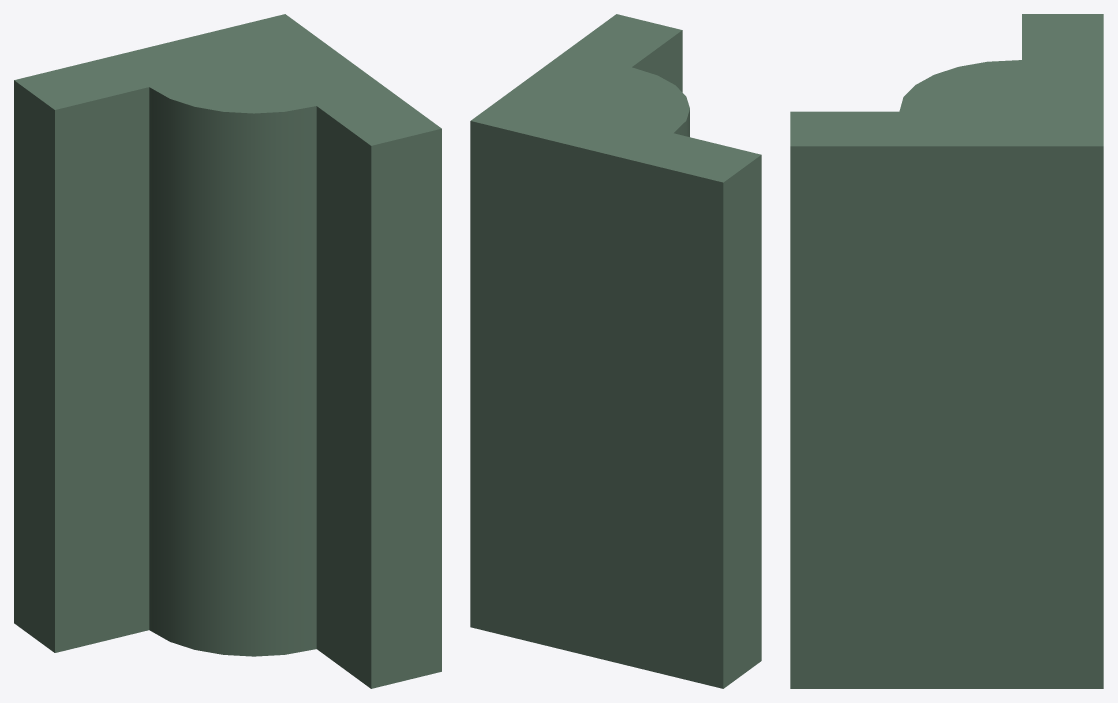
Rendered from W2_WallCorner_Round2B.fbx.
The picture shows the model from 3 angles, left to right: view 1: azimuth 30°, elevation 25°; view 2: azimuth 150°, elevation 25°; view 3: azimuth 270°, elevation 25°; orthographic projection. The views are drawn at different scales.
Parts seen in each view (by area): view 1: W2_WallCorner_Round2B.001; view 2: W2_WallCorner_Round2B.001; view 3: W2_WallCorner_Round2B.001.
Part boxes in pixels (x1,y1,x2,y2): W2_WallCorner_Round2B.001: (14, 14, 441, 688); W2_WallCorner_Round2B.001: (470, 14, 761, 688); W2_WallCorner_Round2B.001: (790, 14, 1103, 688).
Size of the model in its own units: 1.15 by 2.2 by 1.15.
